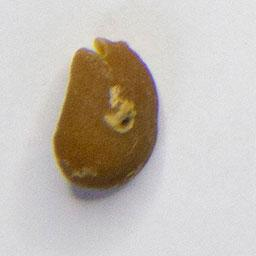defect: (49, 33, 161, 193)
